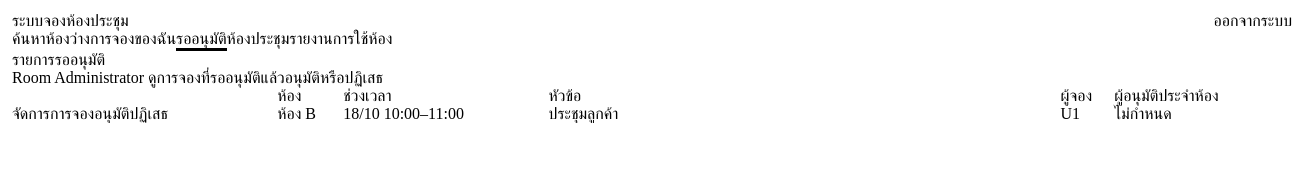
FE-mrr-007 pending approvals page (UI-mrr-009) › ปฏิเสธ posts to API-012 and says ปฏิเสธการจองสำเร็จ
Click the button with test id "ui-mrr-009-reject" at x=149, y=114, box left=130, top=105, right=168, bottom=123
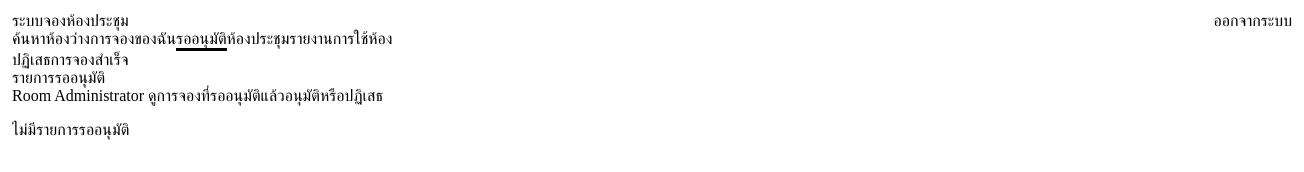
Expected: the message reads "ปฏิเสธการจองสำเร็จ", left=12, top=51, right=129, bottom=68
